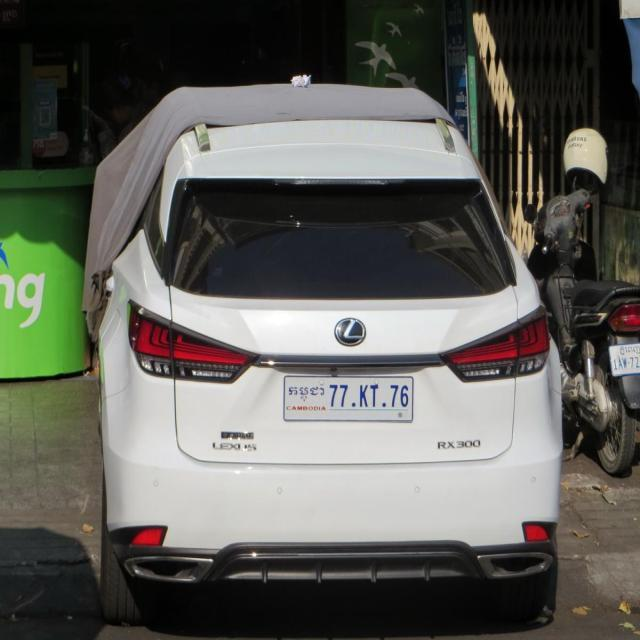Cambodia: (286, 383, 326, 402)
